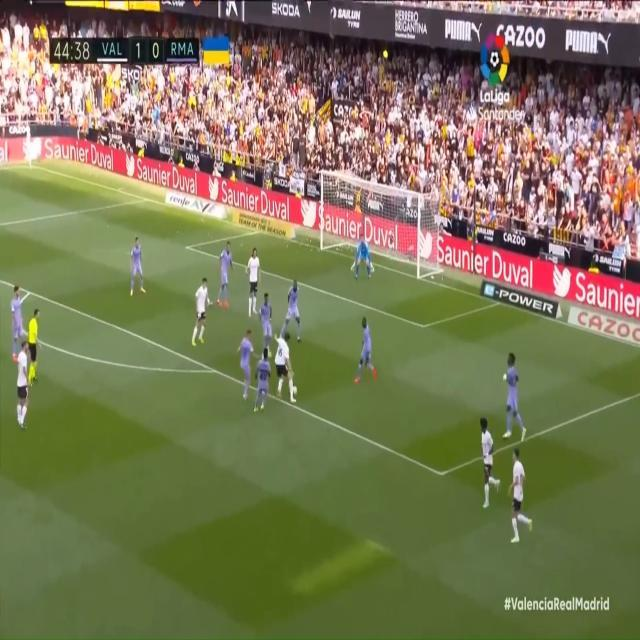ball: (292, 377, 300, 399)
goalkeeper: (351, 227, 379, 294)
player: (502, 338, 530, 445), (505, 444, 534, 543), (474, 416, 502, 510), (279, 280, 305, 363), (356, 314, 380, 398), (272, 333, 296, 414), (190, 268, 212, 351), (17, 344, 36, 437), (215, 241, 235, 323), (9, 277, 27, 363), (253, 344, 271, 428), (257, 283, 278, 352), (245, 244, 264, 320), (240, 327, 257, 404), (129, 233, 147, 303)
referee: (24, 305, 48, 388)
